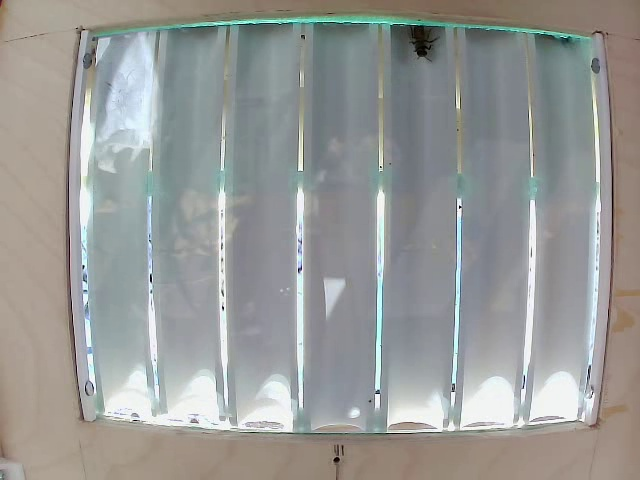bee: (398, 12, 444, 67)
